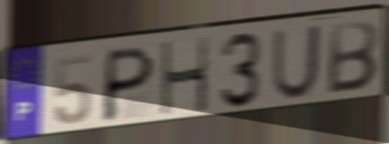3: (218, 30, 263, 111)
5: (52, 51, 94, 127)
B: (324, 18, 381, 97)
H: (159, 34, 210, 119)
P: (98, 43, 158, 125)
U: (270, 22, 324, 102)
